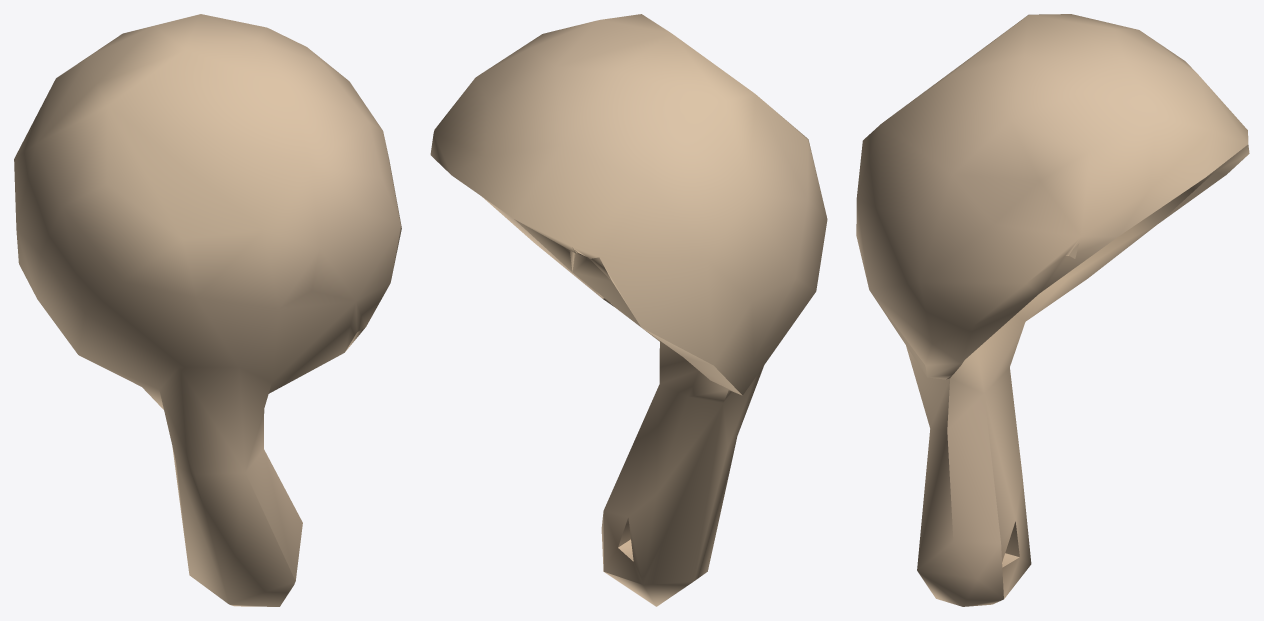
Rendered from tool_ladle_low.glb.
3 views of the same model, side by side, from view 1: azimuth 30°, elevation 25°; view 2: azimuth 150°, elevation 25°; view 3: azimuth 270°, elevation 25° (orthographic). The views are drawn at different scales.
Visible parts, largest first — view 1: tripo_node_c48b510e-ce6c-475d-aae7-7e4cdc343fb4.001; view 2: tripo_node_c48b510e-ce6c-475d-aae7-7e4cdc343fb4.001; view 3: tripo_node_c48b510e-ce6c-475d-aae7-7e4cdc343fb4.001.
Part boxes in pixels (x1,y1,x2,y2): tripo_node_c48b510e-ce6c-475d-aae7-7e4cdc343fb4.001: [14, 14, 401, 606]; tripo_node_c48b510e-ce6c-475d-aae7-7e4cdc343fb4.001: [430, 14, 827, 606]; tripo_node_c48b510e-ce6c-475d-aae7-7e4cdc343fb4.001: [856, 14, 1249, 606].
Size of the model in its own units: 0.2673 by 0.4232 by 0.263.
